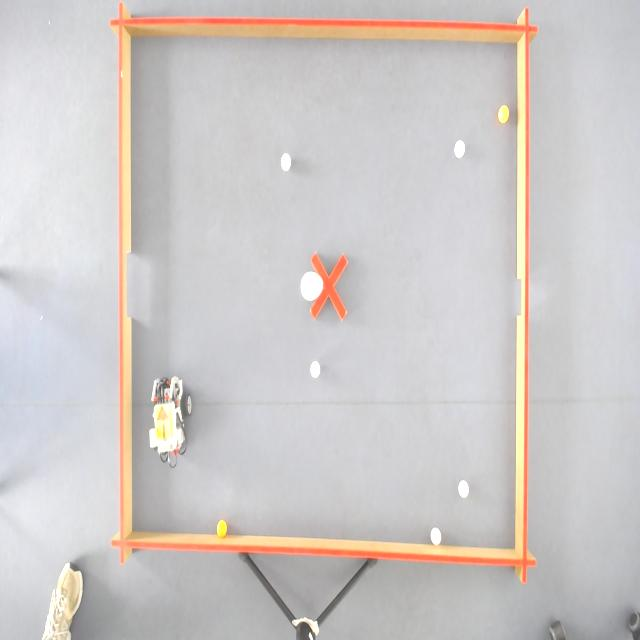cross: (308, 250, 348, 322)
egg: (298, 270, 324, 303)
orange_ball: (498, 103, 510, 126), (216, 516, 228, 539)
robot: (154, 403, 174, 443)
white_ball: (429, 524, 442, 547), (309, 359, 322, 381), (457, 478, 470, 500), (280, 150, 292, 173), (454, 138, 466, 159)
